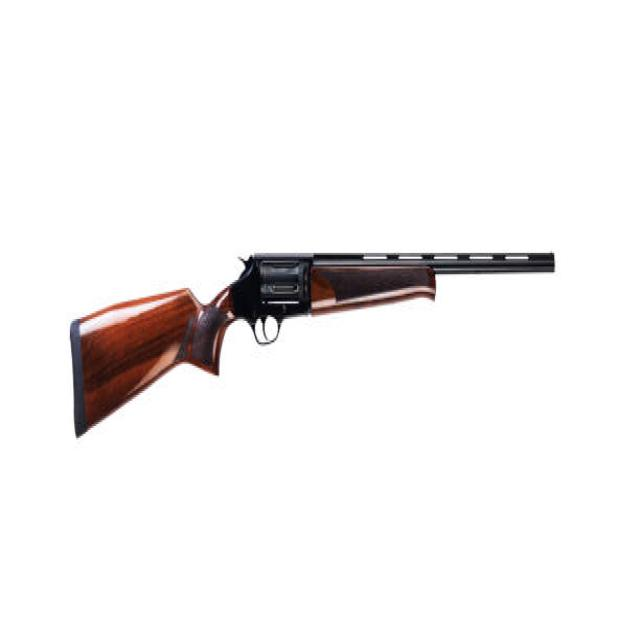rifle: (67, 239, 559, 446)
